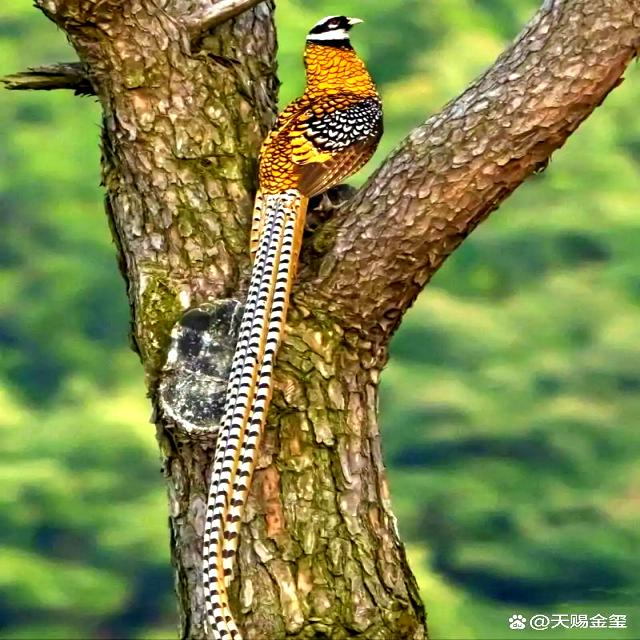Reeves-s Pheasant: (202, 187, 309, 640)
